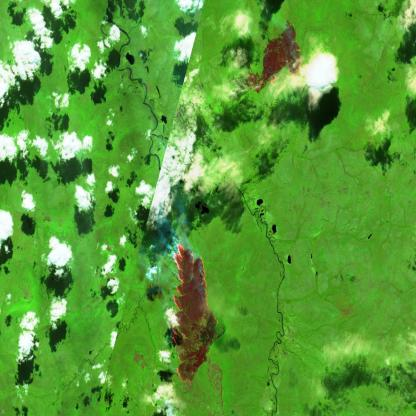fire: (155, 224, 218, 392), (238, 19, 309, 100)
